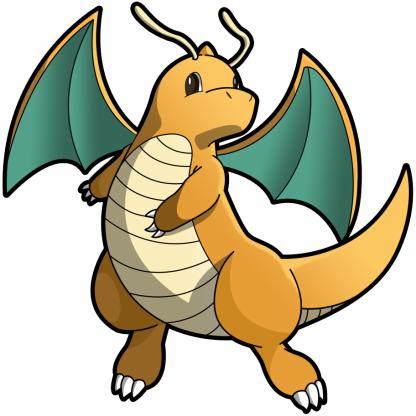Dragonite: (9, 18, 416, 408)
